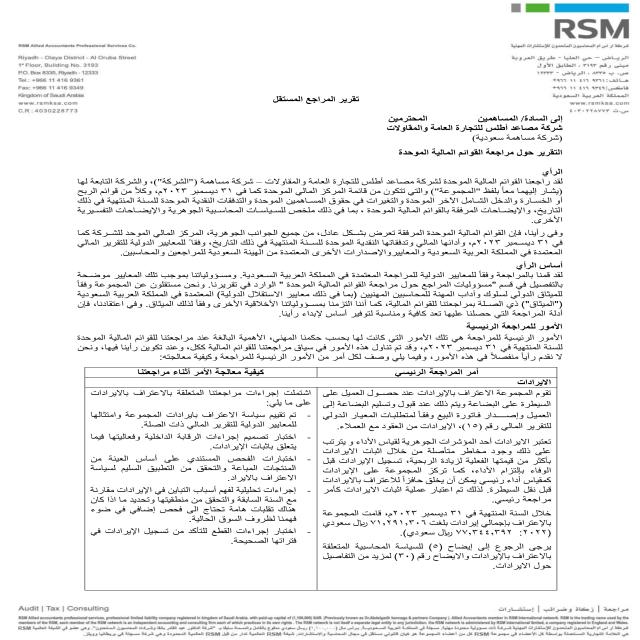auditor_report: (263, 90, 366, 114)
